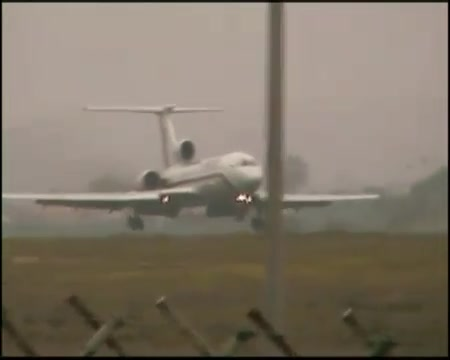aeroplane: (3, 105, 380, 233)
